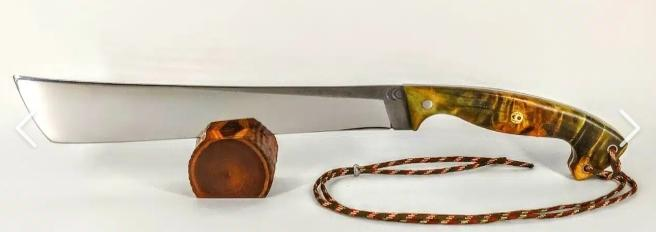MACHETTE: (11, 68, 656, 205)
